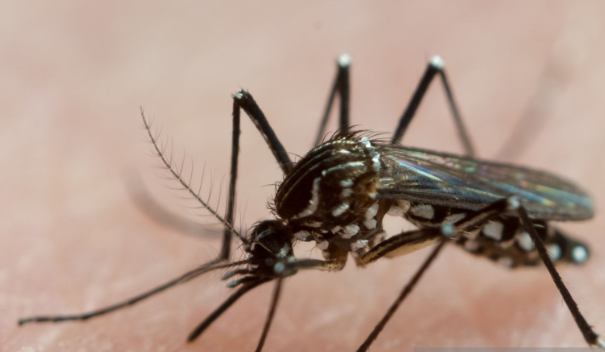dengue_mosquito: (52, 54, 597, 343)
